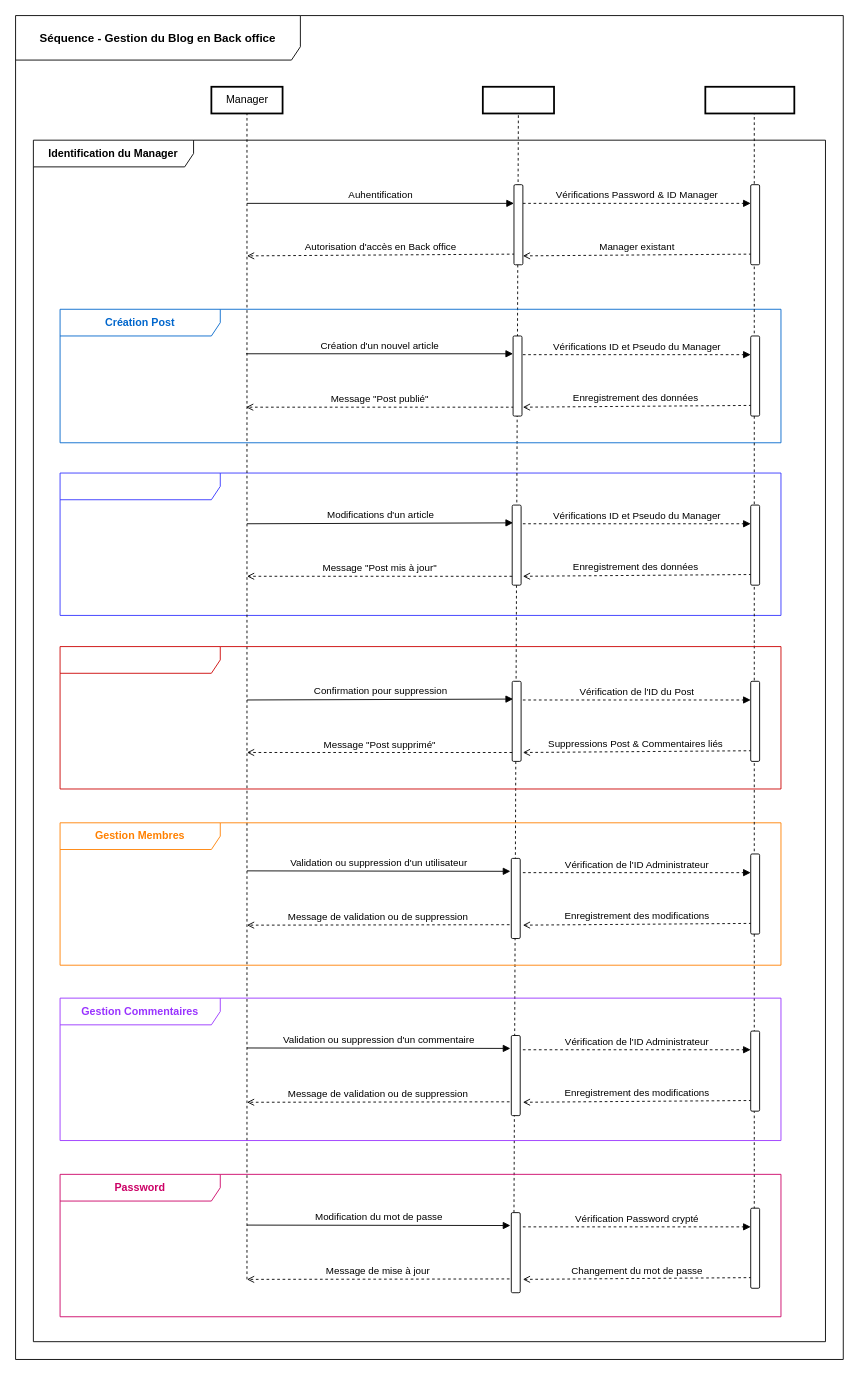
This 859x1375 diagram has some shape labels left out. The centre of each missing label's shape, as x and y in pixels:
Database: the point at 749,99
Mise à jour Post: the point at 420,543
Suppression Post: the point at 420,717
System: the point at 517,99
